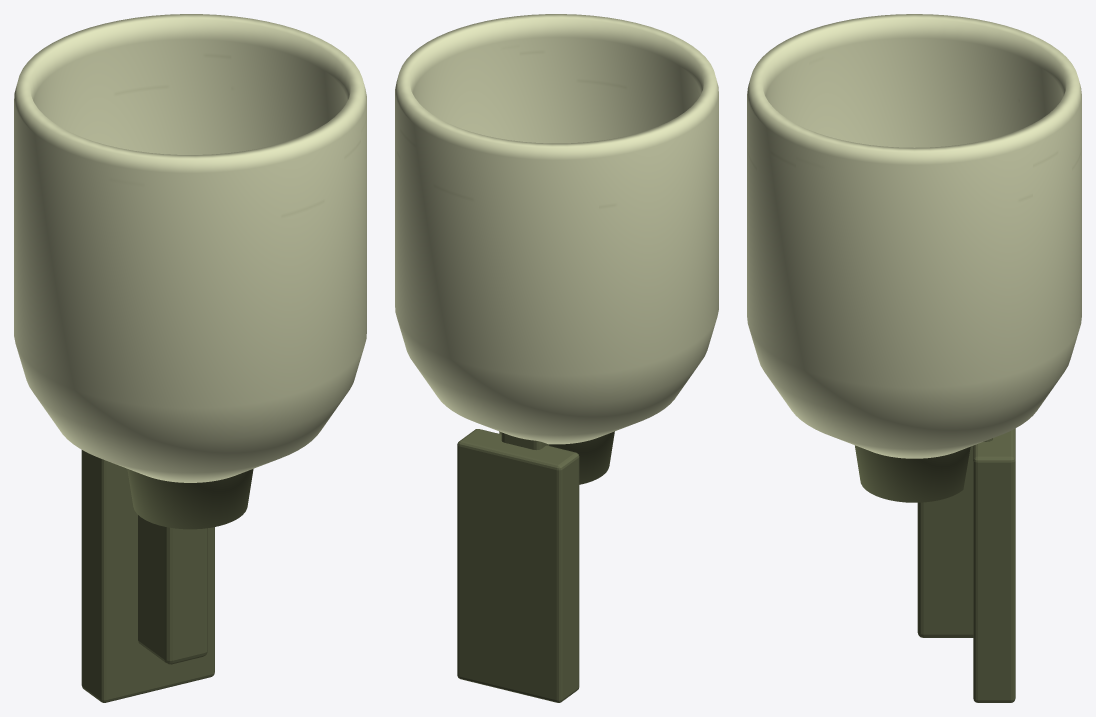
File: StraightLamp_ARCH01.fbx
3 views of the same model, side by side, from view 1: azimuth 30°, elevation 25°; view 2: azimuth 150°, elevation 25°; view 3: azimuth 270°, elevation 25° (orthographic). The views are drawn at different scales.
Visible parts, largest first — view 1: StraightLamp; view 2: StraightLamp; view 3: StraightLamp.
Part boxes in pixels (x1,y1,x2,y2): StraightLamp: (14,14,366,702); StraightLamp: (395,14,718,702); StraightLamp: (747,14,1081,702).
Bounding box in the file's own units: 0.222 × 0.435 × 0.222.
2 materials, 1 textured.
